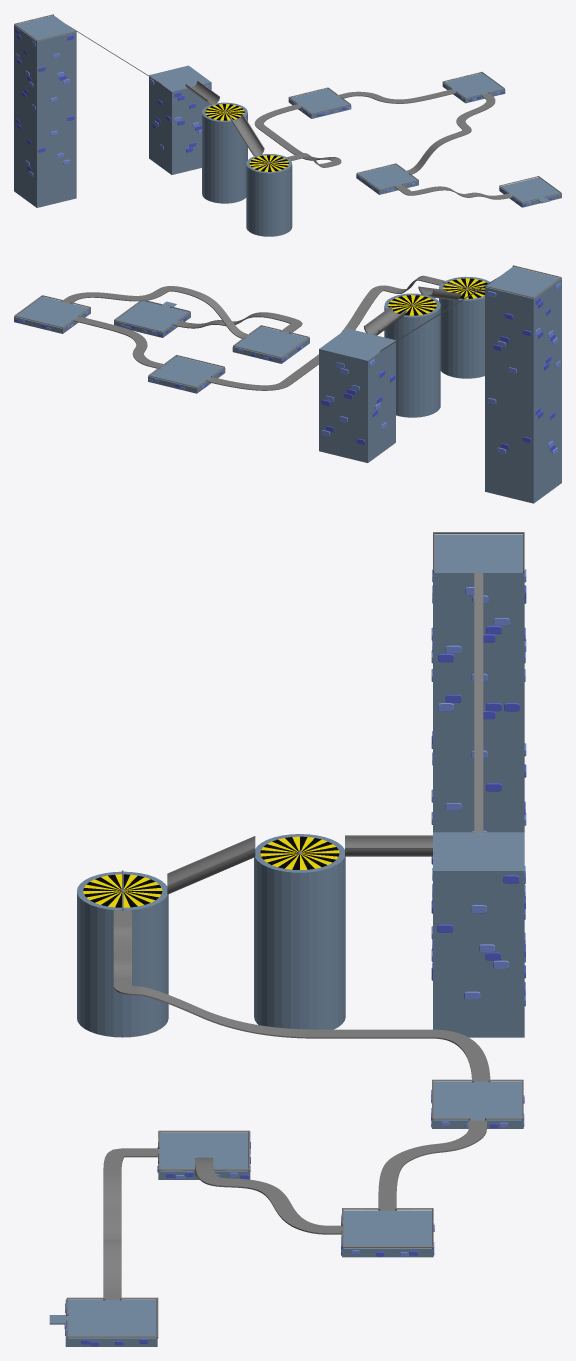
Rendered from Level2.fbx.
3 renders of one model, top to bottom at view 1: azimuth 30°, elevation 25°; view 2: azimuth 150°, elevation 25°; view 3: azimuth 270°, elevation 25°, orthographic. The views are drawn at different scales.
Parts seen in each view (by area): view 1: BaseKitchen.003, BaseKitchen.002, CylinderSpin.001, CylinderSpin.002, BaseCustomer2.002, BaseCustomer.002, BaseCustomer1.003, BaseCustomer1.002, Plane.007, Plane.004, Plane.003, CylinderRot1 (+4 smaller); view 2: BaseKitchen.003, BaseKitchen.002, CylinderSpin.001, CylinderSpin.002, BaseCustomer1.003, BaseCustomer2.002, BaseCustomer.002, BaseCustomer1.002, Plane.007, Plane.004, Plane.003, ObjSpin.001 (+4 smaller); view 3: BaseKitchen.003, BaseKitchen.002, CylinderSpin.001, CylinderSpin.002, Plane.007, BaseCustomer2.002, BaseCustomer1.002, BaseCustomer.002, BaseCustomer1.003, Plane.005, Plane.001, Plane.004 (+5 smaller).
Part boxes in pixels (x1,y1,x2,y2): BaseKitchen.003: (14,14,76,207); BaseKitchen.002: (149,65,211,174); CylinderSpin.001: (202,102,247,203); CylinderSpin.002: (246,154,292,236); BaseCustomer2.002: (499,176,561,207); BaseCustomer.002: (288,87,351,118); BaseCustomer1.003: (356,163,418,194); BaseCustomer1.002: (442,72,505,103); Plane.007: (254,104,341,167); Plane.004: (406,93,495,174); Plane.003: (338,89,456,103); CylinderRot1: (229,113,264,156); BaseKitchen.003: (485,265,561,503); BaseKitchen.002: (319,328,395,462); CylinderSpin.001: (384,293,440,417); CylinderSpin.002: (439,276,489,378); BaseCustomer1.003: (232,325,309,363); BaseCustomer2.002: (114,300,190,337); BaseCustomer.002: (148,355,225,393); BaseCustomer1.002: (14,295,90,333); Plane.007: (207,275,444,390); Plane.004: (61,286,248,338); Plane.003: (74,316,164,368); ObjSpin.001: (388,295,436,315); BaseKitchen.003: (431,532,526,832); BaseKitchen.002: (431,832,525,1037); CylinderSpin.001: (254,834,345,1029); CylinderSpin.002: (77,871,168,1037); Plane.007: (113,910,490,1081); BaseCustomer2.002: (49,1297,158,1346); BaseCustomer1.002: (341,1208,434,1257); BaseCustomer.002: (431,1079,524,1128); BaseCustomer1.003: (157,1130,250,1179); Plane.005: (103,1148,158,1299); Plane.001: (474,573,483,833); Plane.004: (195,1157,344,1234).
Bounding box in the file's own units: 11232 × 4714 × 5193.
